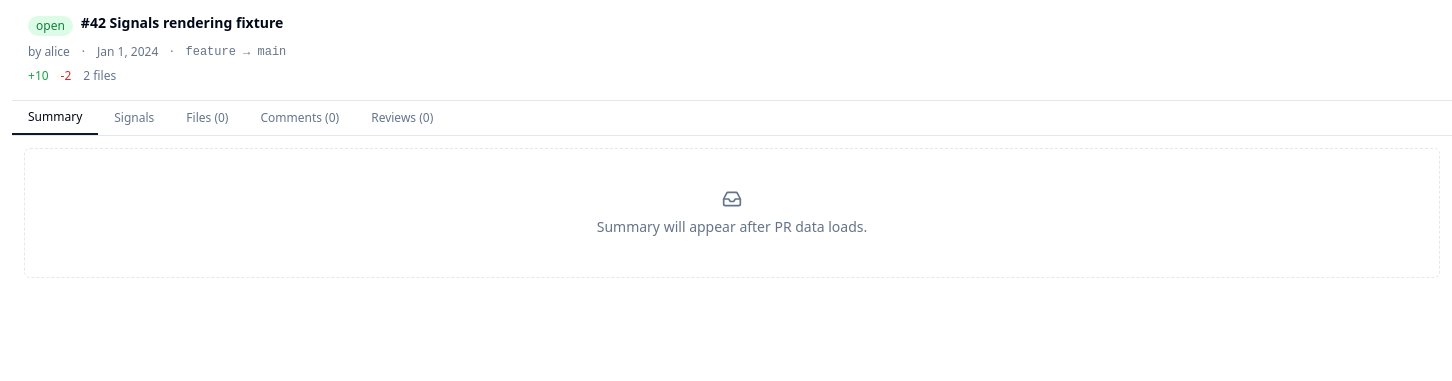
Test: PRViewer signals tab › renders failing check highlights in deterministic order
The width and height of the screenshot is (1452, 381).
What coordinates should you click on to do the following:
click the button "Signals"
I would click on:
 (134, 118)
Its box is [98,101,170,135].
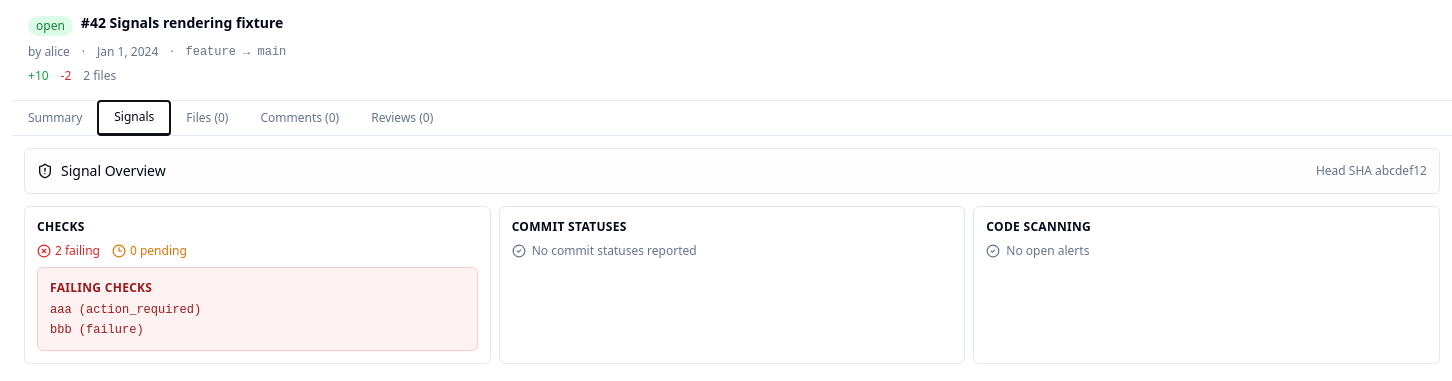
Check: the list item "aaa (action_required)" is shown, box [50,303,201,317]
